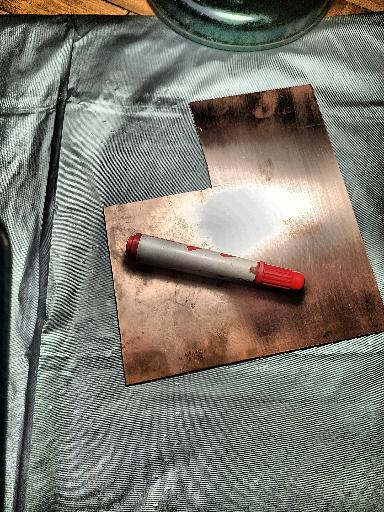marcador rojo: (126, 233, 305, 294)
